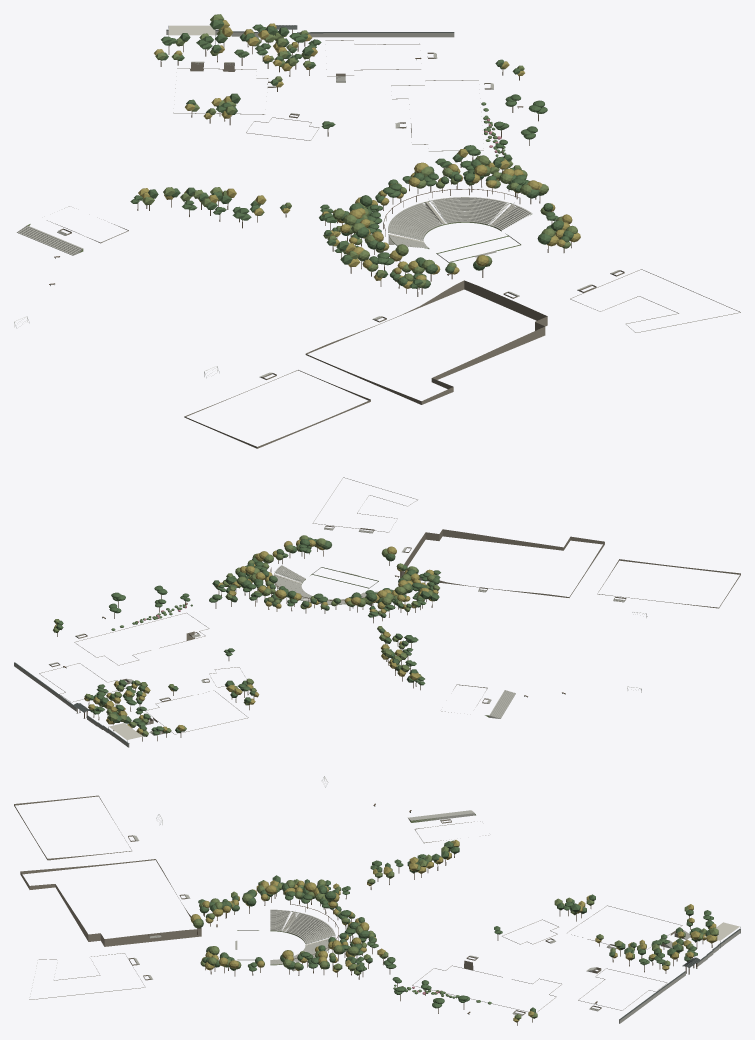
3 renders of one model, top to bottom at view 1: azimuth 30°, elevation 25°; view 2: azimuth 150°, elevation 25°; view 3: azimuth 270°, elevation 25°, orthographic. The views are drawn at different scales.
Parts seen in each view (by area): view 1: planting_mixed-trees, facility_terrain-contour-join, facility_open-amphitheatre, facility_stone-boundary, stairs_library-forecourt; view 2: planting_mixed-trees, facility_terrain-contour-join, facility_open-amphitheatre, facility_stone-boundary; view 3: planting_mixed-trees, facility_terrain-contour-join, facility_open-amphitheatre, facility_stone-boundary.
Part boxes in pixels (x1,y1,x2,y2): planting_mixed-trees: [130, 14, 580, 296]; facility_terrain-contour-join: [27, 40, 740, 448]; facility_open-amphitheatre: [388, 197, 531, 248]; facility_stone-boundary: [166, 29, 454, 37]; stairs_library-forecourt: [17, 225, 82, 255]; planting_mixed-trees: [53, 535, 440, 741]; facility_terrain-contour-join: [39, 477, 740, 734]; facility_open-amphitheatre: [274, 565, 378, 603]; facility_stone-boundary: [14, 662, 129, 747]; planting_mixed-trees: [190, 840, 718, 1025]; facility_terrain-contour-join: [14, 795, 683, 1014]; facility_open-amphitheatre: [270, 909, 335, 964]; facility_stone-boundary: [619, 929, 740, 1023].
Size of the model in its own units: 239 by 15.59 by 286.
14 materials, 2 textured.
